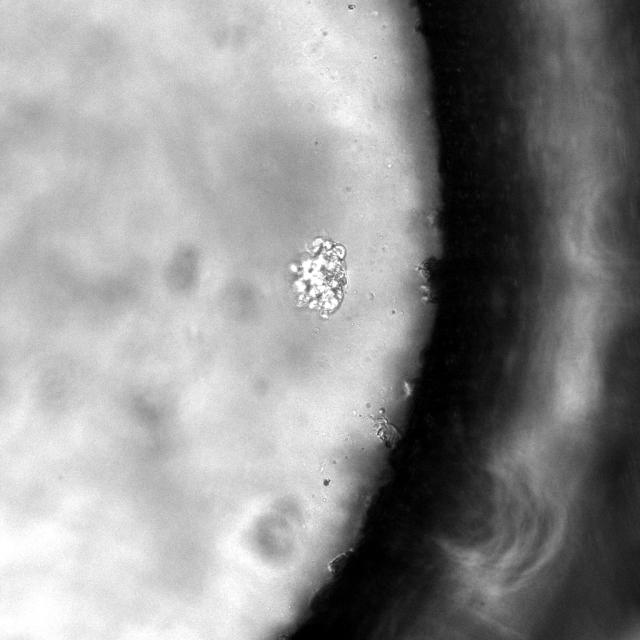organoid: (289, 237, 346, 317)
